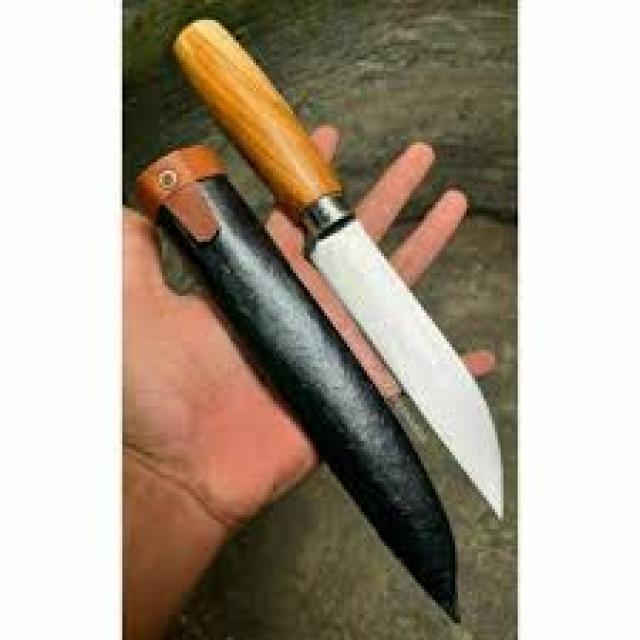Knife: (174, 20, 501, 515)
